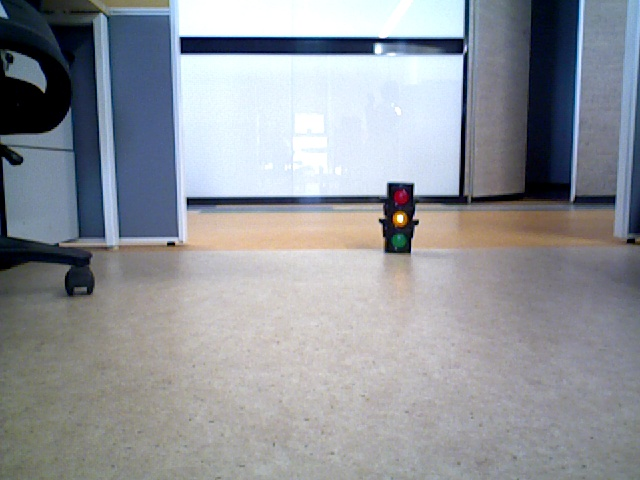yellow: (385, 184, 407, 251)
